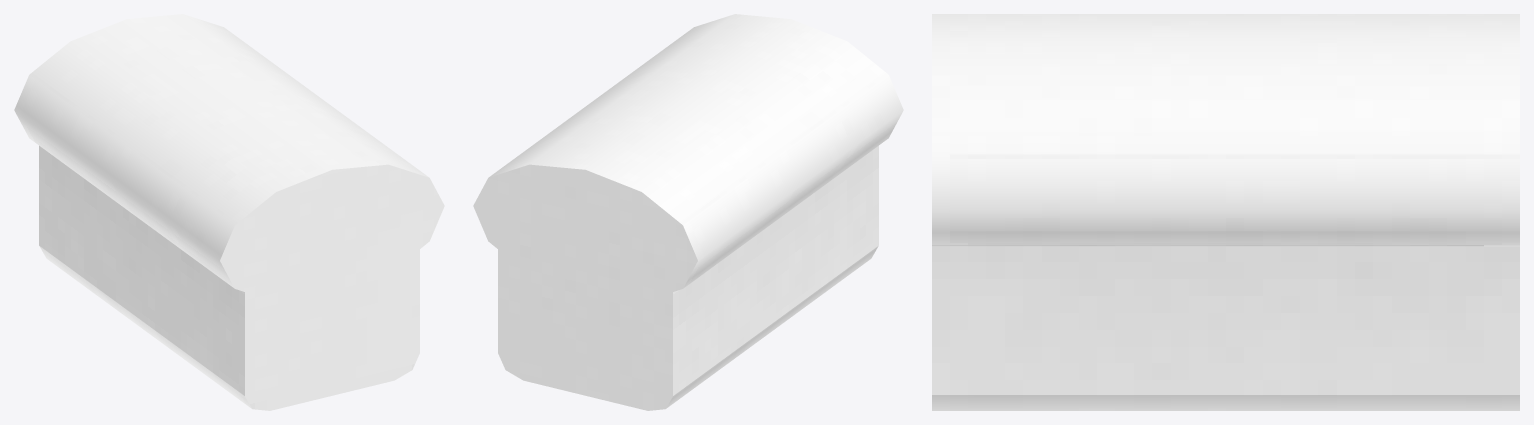
File: BreadLoaf.glb
The picture shows the model from 3 angles, left to right: view 1: azimuth 30°, elevation 25°; view 2: azimuth 150°, elevation 25°; view 3: azimuth 270°, elevation 25°; orthographic projection. The views are drawn at different scales.
Parts seen in each view (by area): view 1: BreadLoaf; view 2: BreadLoaf; view 3: BreadLoaf.
Boxes of the visible parts, x1=… form: BreadLoaf: x1=14, y1=14, x2=444, y2=410; BreadLoaf: x1=473, y1=14, x2=903, y2=410; BreadLoaf: x1=932, y1=14, x2=1519, y2=410.
Bounding box in the file's own units: 0.1902 × 0.1826 × 0.3013.
1 material, 1 textured.
